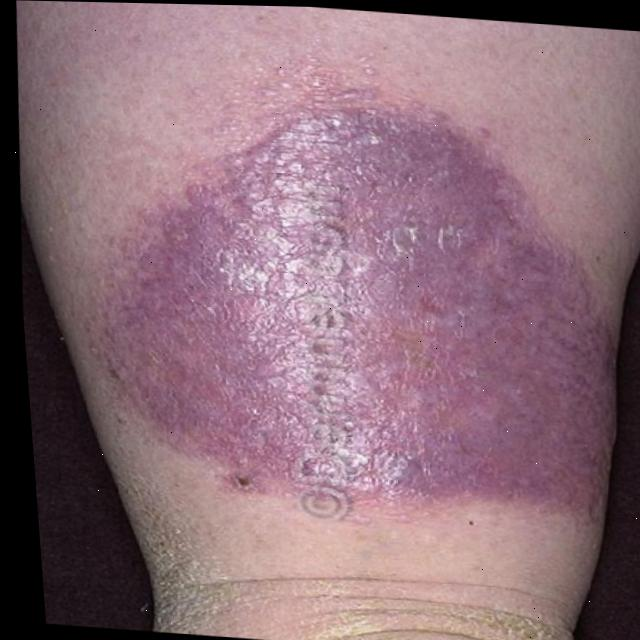Eczema: (126, 112, 614, 505)
